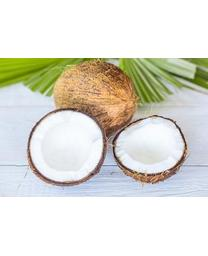coconut: (55, 60, 137, 139), (28, 108, 106, 186), (113, 115, 187, 182)
